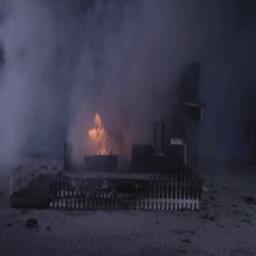fire: (80, 101, 119, 159)
smoke: (2, 0, 187, 107)
